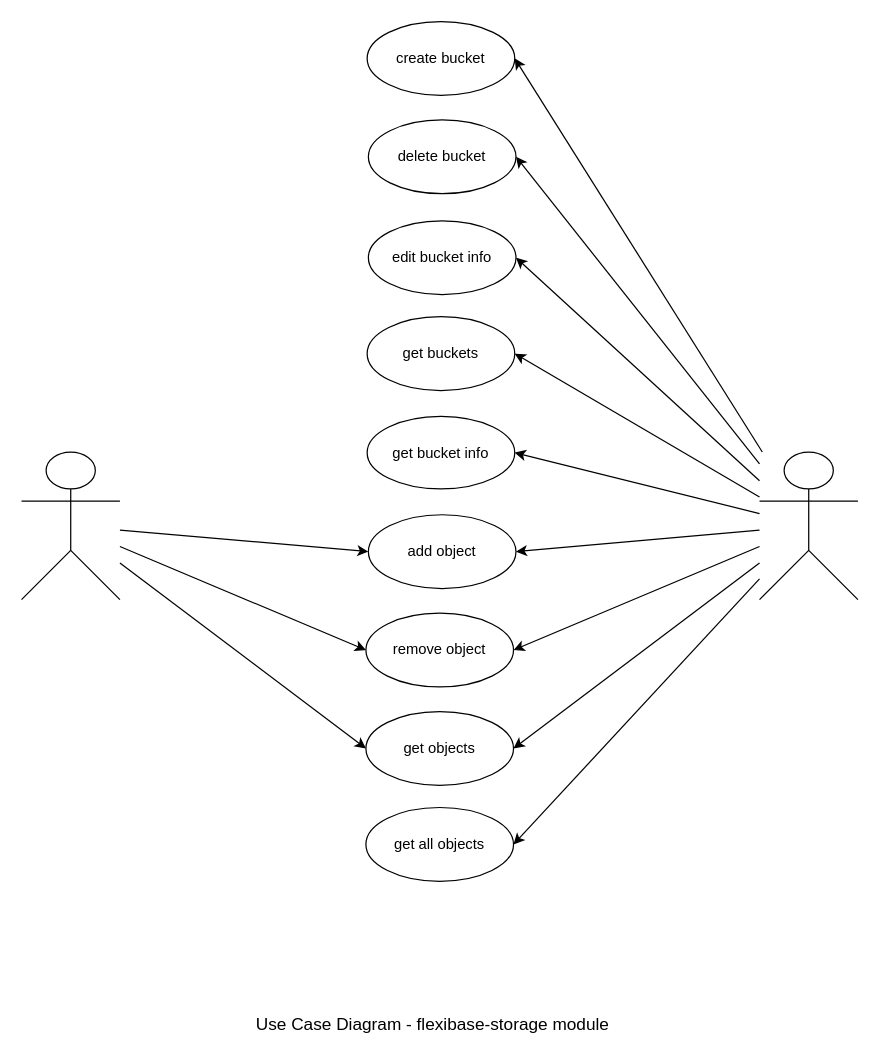
This 879x1064 diagram has some shape labels left out. Here are the shapes that lost their labels. From the top down, the centre of each, then its label:
At pixel 70 525: "User".
At pixel 808 525: "Admin".
